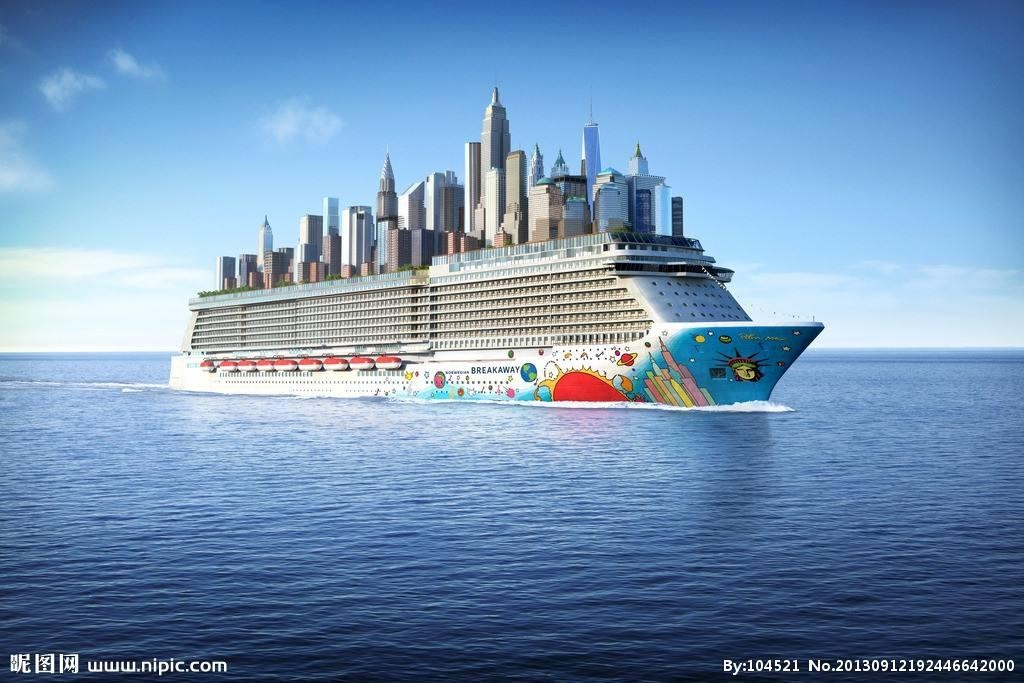youlun: (161, 101, 827, 414)
